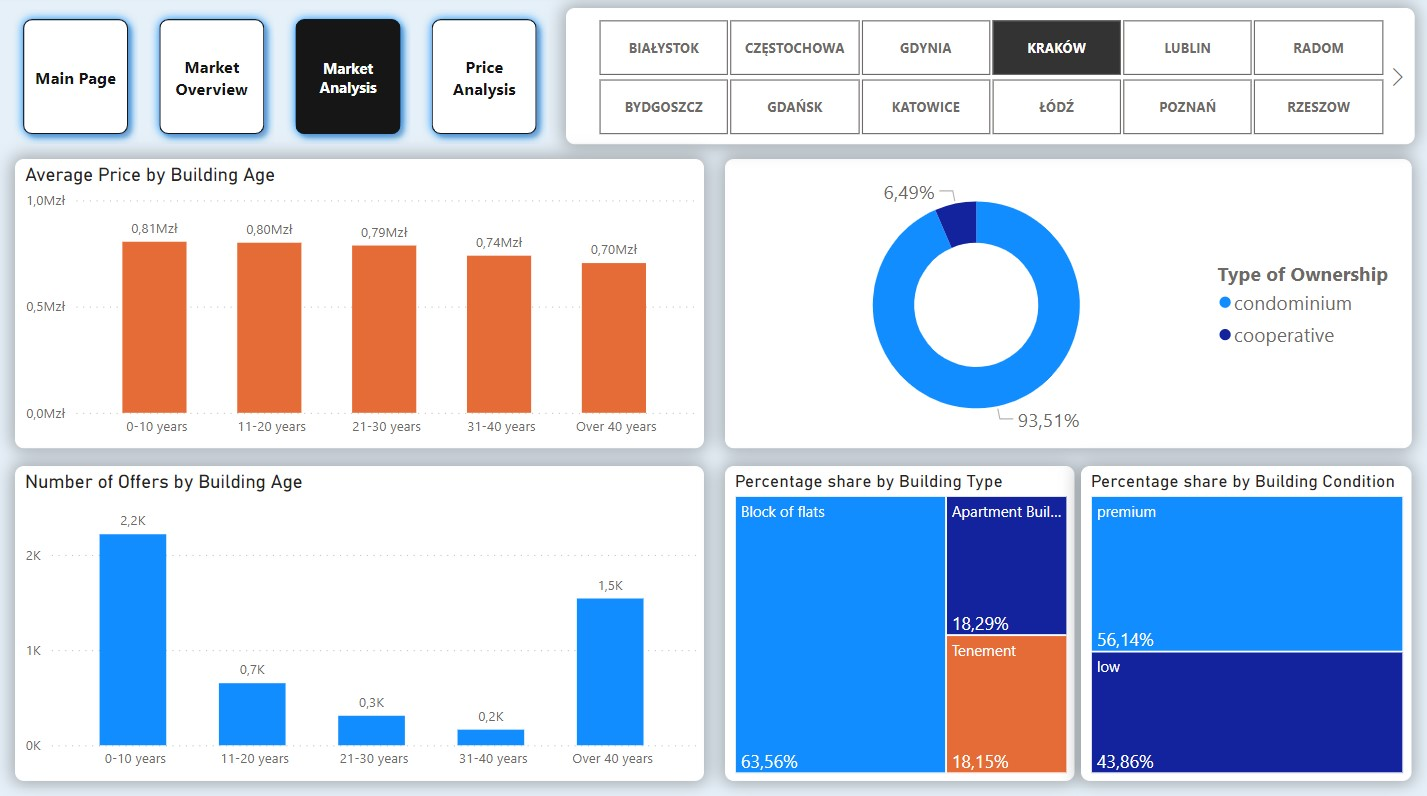

Layout of this report page (visuals, bound fields, positions):
{"tool":"powerbi","page":{"name":"Market Analysis","canvas":[1280,720],"ordinal":2},"visuals":[{"type":"columnChart","title":"Number of Offers by Building Age","fields":{"Category":["Apartments_data.Age Bins"],"Y":["_Measures.Nuber of offers"]},"box":[13.3,414.9,617.5,288.2],"z":0},{"type":"treemap","title":"Percentage share by Building Type","fields":{"Values":["_Measures.Nuber of offers"],"Group":["DIM_Building_types.building_type"]},"box":[648.8,414.9,313.6,288.2],"z":1000},{"type":"donutChart","title":"Distribution of Ownership","fields":{"Y":["_Measures.Nuber of offers"],"Category":["DIM_Ownership.ownership"]},"box":[648.8,145.9,615.1,259.3],"z":2000},{"type":"treemap","title":"Percentage share by Building Condition","fields":{"Values":["_Measures.Nuber of offers"],"Group":["FACT_Apartments_data.building_condition"]},"box":[968.4,414.9,295.5,288.2],"z":3000},{"type":"slicer","fields":{"Values":["DIM_City.city"]},"box":[506.5,10.9,759.8,121.8],"z":4000},{"type":"pageNavigator","box":[11.2,11.2,481.2,121.2],"z":5000},{"type":"columnChart","title":"Average Price by Building Age","fields":{"Category":["Apartments_data.Age Bins","FACT_Apartments_data.Age of Building"],"Y":["_Measures.Avg Price"]},"box":[13.3,145.9,617.5,259.3],"z":6000}]}

Visuals, with their boxes in screenshot pixels (x1, y1, x2, y2), scaled from the page's 1280x720 canvas onto the 1427x796 screenshot:
"Number of Offers by Building Age" columnChart: [15,459,703,777]
"Percentage share by Building Type" treemap: [723,459,1073,777]
"Distribution of Ownership" donutChart: [723,161,1409,448]
"Percentage share by Building Condition" treemap: [1080,459,1409,777]
slicer - DIM_City.city: [565,12,1412,147]
pageNavigator: [12,12,549,146]
"Average Price by Building Age" columnChart: [15,161,703,448]
